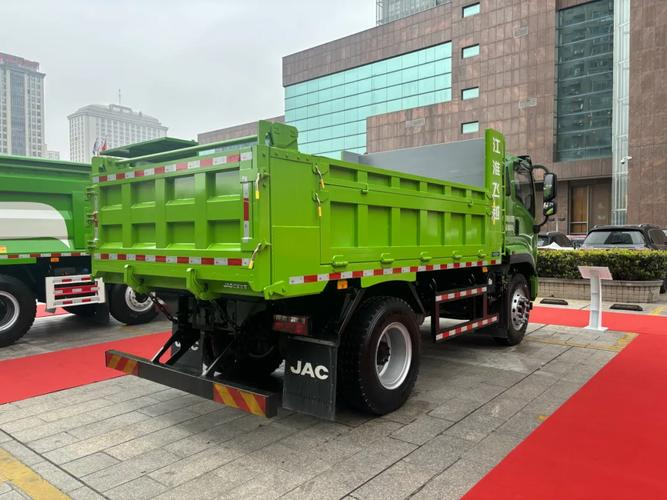卡车: (83, 104, 558, 432)
